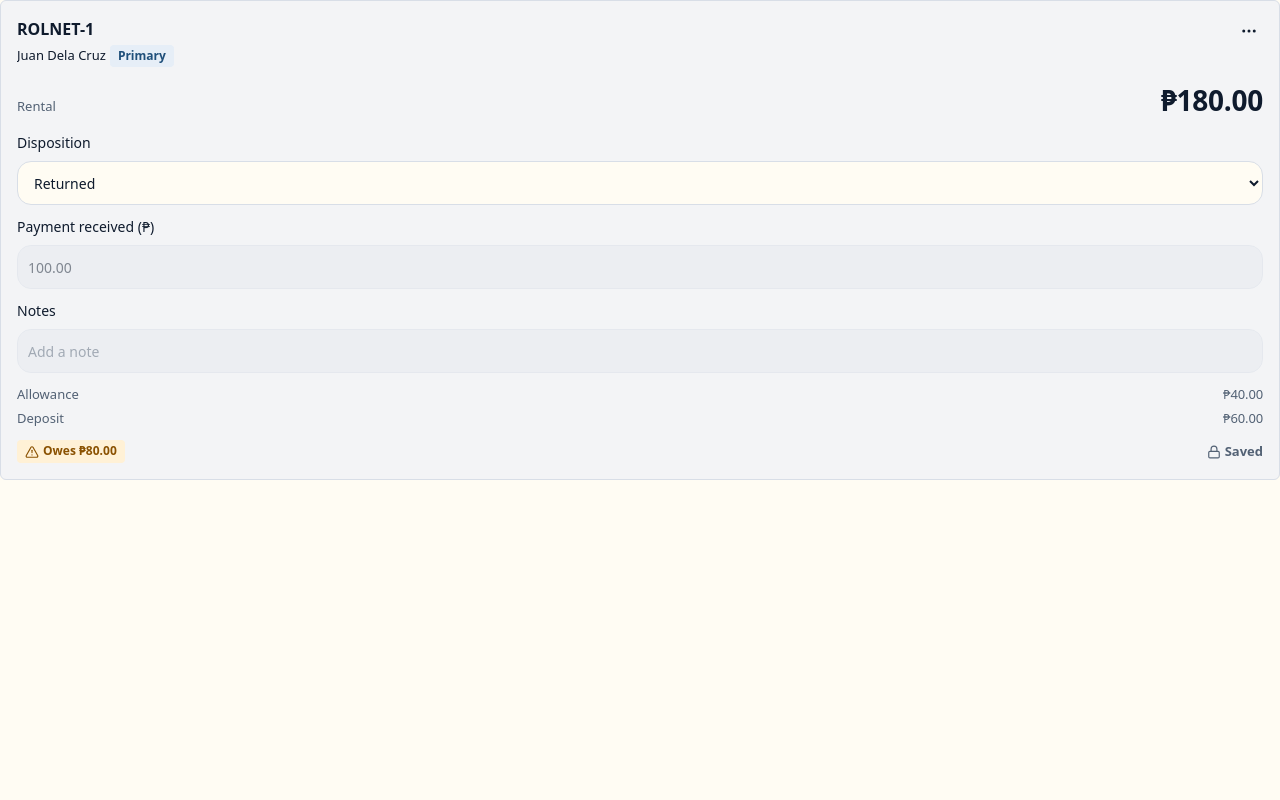
Test: DailyCard: correcting (feature 008, User Story 2) › blocks staff from lowering a recorded payment
Click the button named "Card options": point(1249, 31) [1227,9,1271,53]
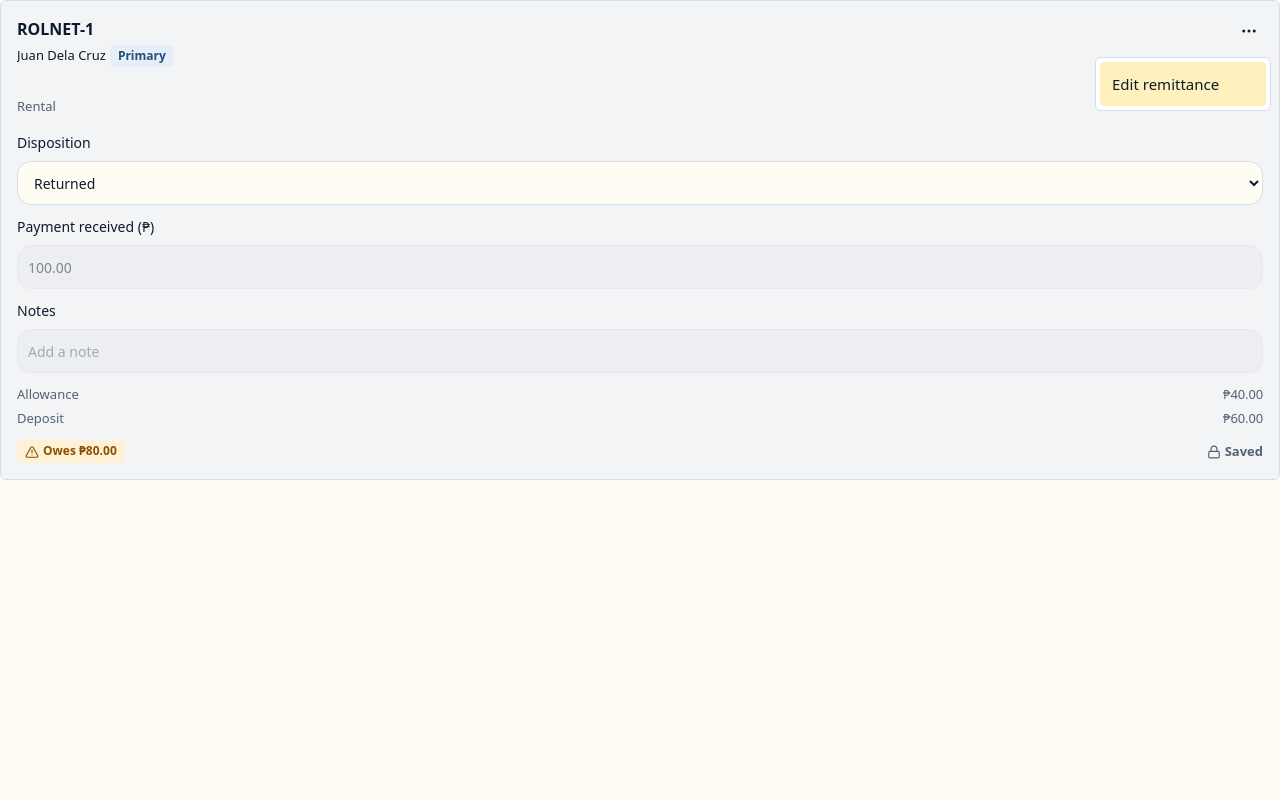
Click the menu item "Edit remittance": point(1183, 84) [1100,62,1266,106]
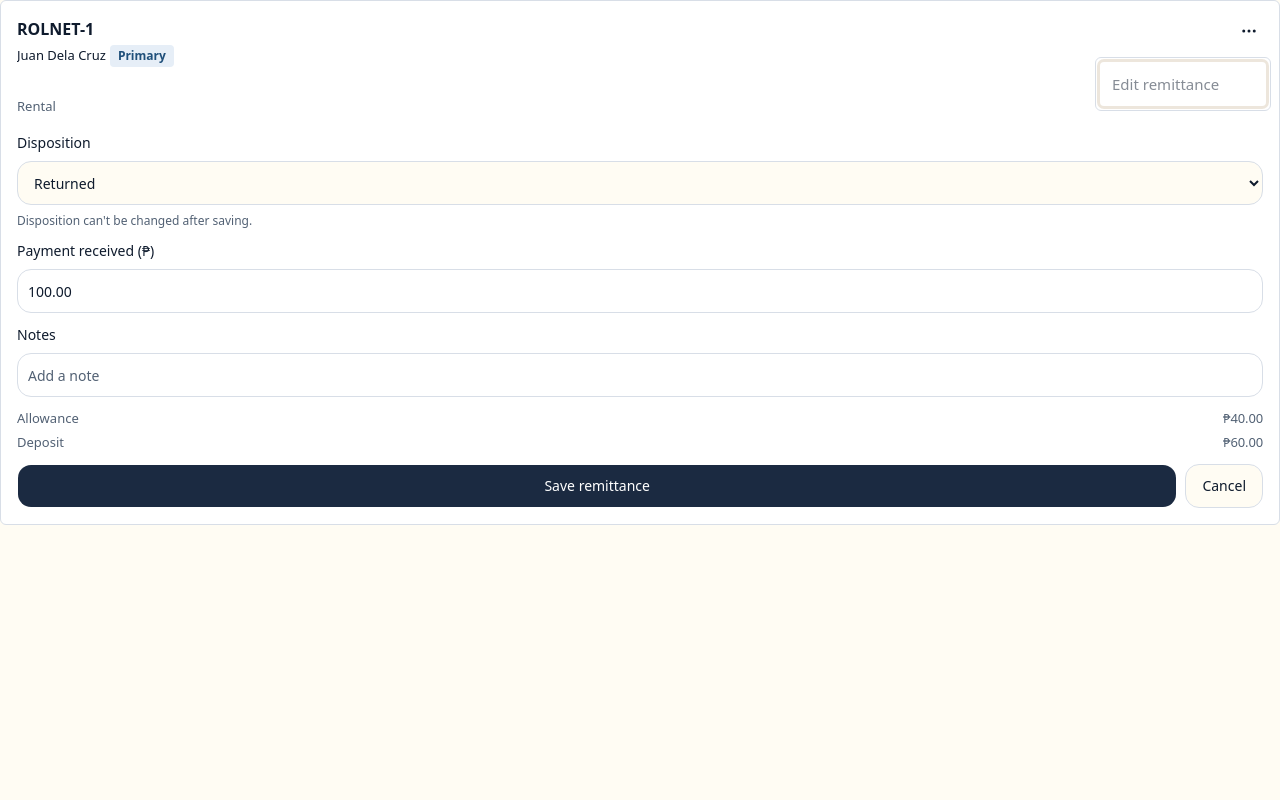
Replace the text in the field labelled "Payment received (₱)" with "50": point(640, 291) [17,269,1263,313]
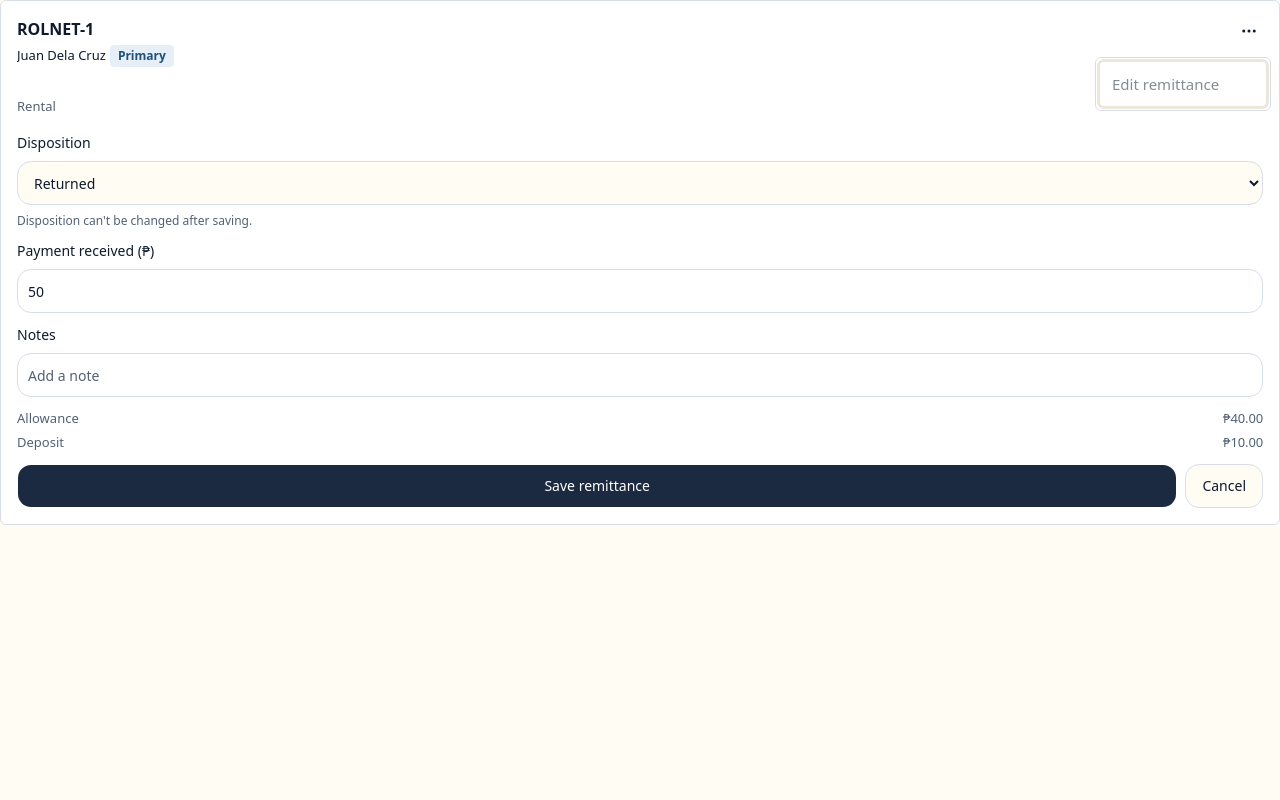
Click the button "Save remittance": point(597, 486) [17,464,1177,508]
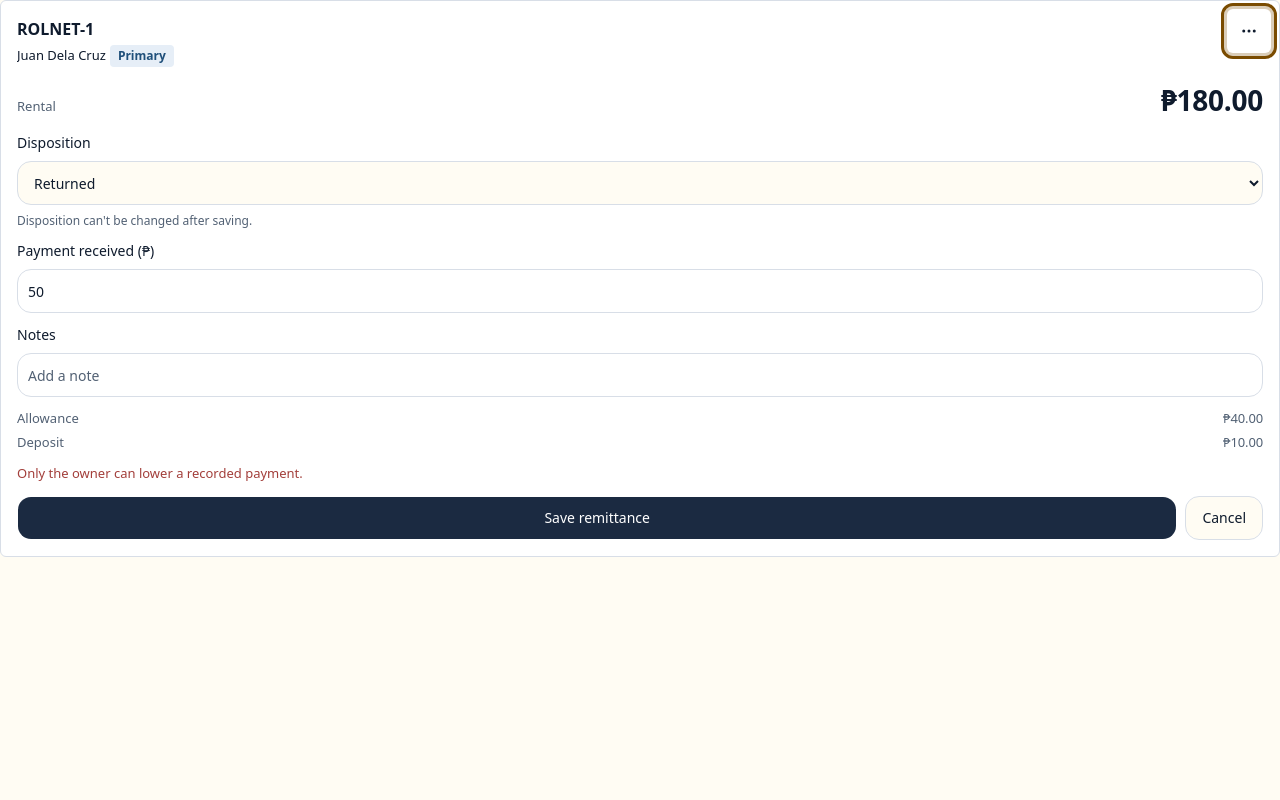
Expected: the message reads "Only the owner can lower a recorded payment.", [17,464,303,482]
